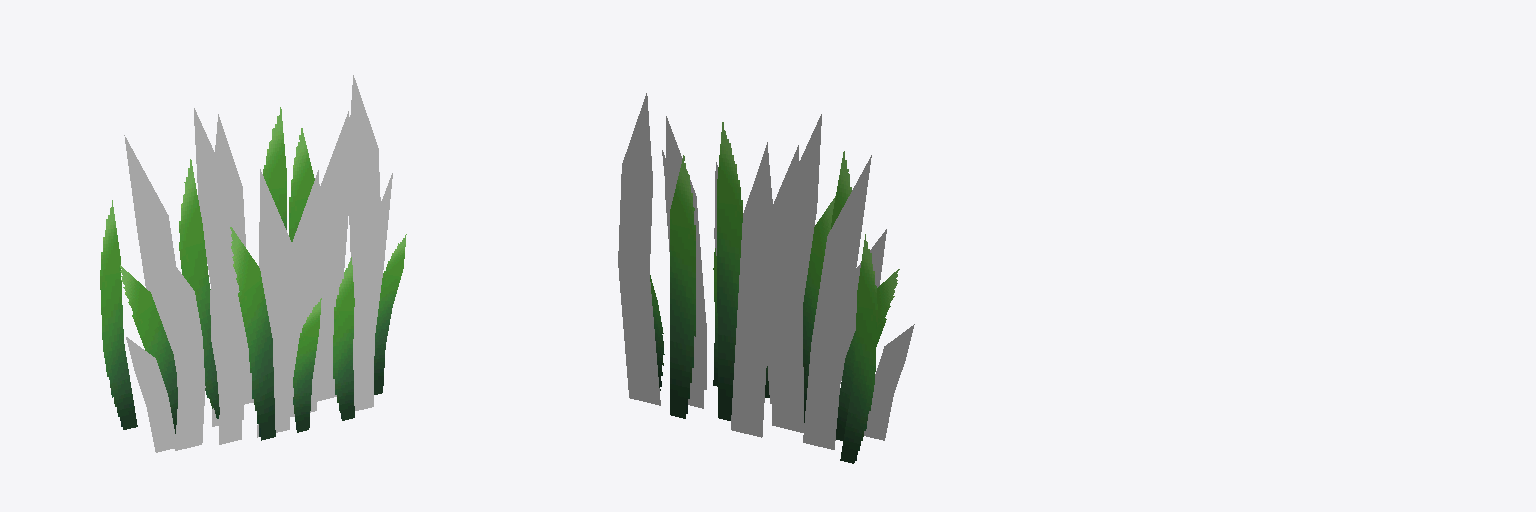
3 renders of one model, left to right at view 1: azimuth 30°, elevation 25°; view 2: azimuth 150°, elevation 25°; view 3: azimuth 270°, elevation 25°, orthographic.
Visible parts, largest first — view 1: Polygon0, Polygon1; view 2: Polygon0, Polygon1; view 3: none.
Part boxes in pixels (left/top/right/bottom): Polygon0: left=124, top=75, right=392, bottom=452; Polygon1: left=100, top=107, right=406, bottom=440; Polygon0: left=618, top=93, right=914, bottom=449; Polygon1: left=650, top=122, right=899, bottom=463.
Size of the model in its own units: 14.76 by 15.65 by 3.97.
Materials: 2 (1 with a texture image).